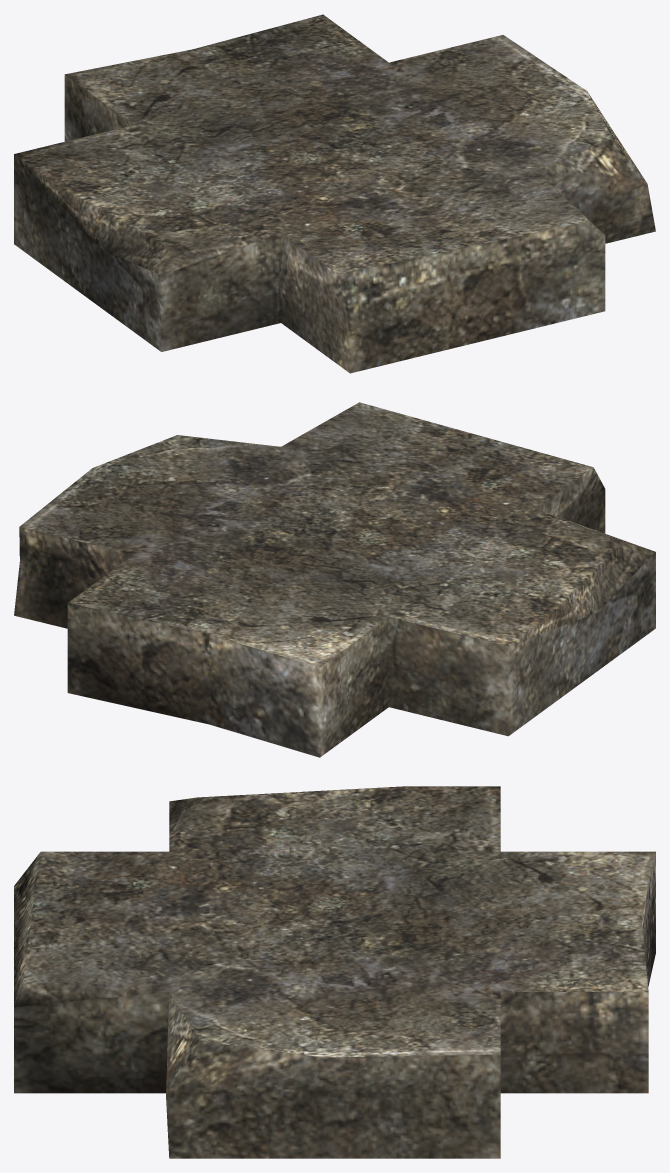
The model's file is Ruins_05F.fbx.
The picture shows the model from 3 angles, top to bottom: view 1: azimuth 30°, elevation 25°; view 2: azimuth 150°, elevation 25°; view 3: azimuth 270°, elevation 25°; orthographic projection. The views are drawn at different scales.
Parts seen in each view (by area): view 1: polySurface1691; view 2: polySurface1691; view 3: polySurface1691.
Part boxes in pixels (x1,y1,x2,y2): polySurface1691: [14, 14, 655, 373]; polySurface1691: [14, 402, 655, 757]; polySurface1691: [14, 786, 655, 1158].
Size of the model in its own units: 2.3 by 0.4005 by 2.3.
1 material, 1 textured.
